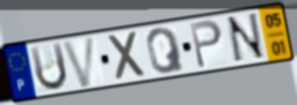N: (225, 11, 268, 66)
P: (187, 18, 224, 71)
Q: (144, 26, 187, 76)
U: (28, 40, 70, 94)
V: (60, 34, 98, 90)
X: (105, 29, 149, 84)
